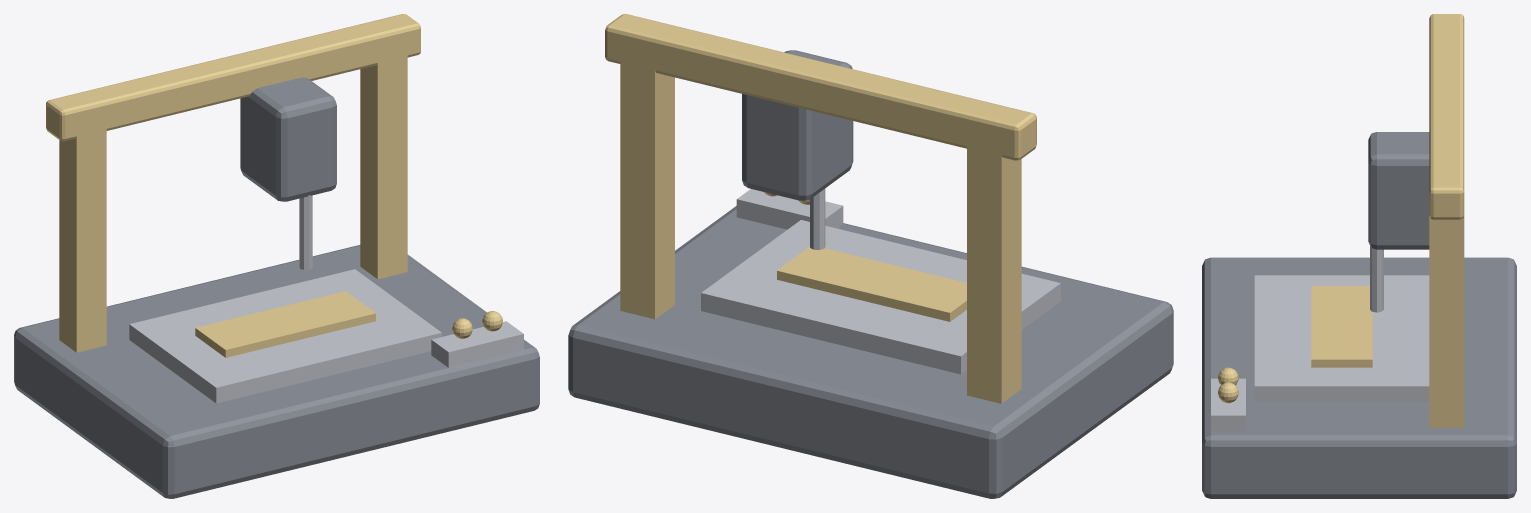
Rendered from prop_engraver.glb.
3 views of the same model, side by side, from view 1: azimuth 30°, elevation 25°; view 2: azimuth 150°, elevation 25°; view 3: azimuth 270°, elevation 25° (orthographic). The views are drawn at different scales.
Visible parts, largest first — view 1: Engraver; view 2: Engraver; view 3: Engraver.
Part boxes in pixels (left/top/right/bottom): Engraver: left=14, top=14, right=539, bottom=498; Engraver: left=568, top=14, right=1173, bottom=498; Engraver: left=1202, top=14, right=1516, bottom=498.
Size of the model in its own units: 0.5 by 0.39 by 0.36.
